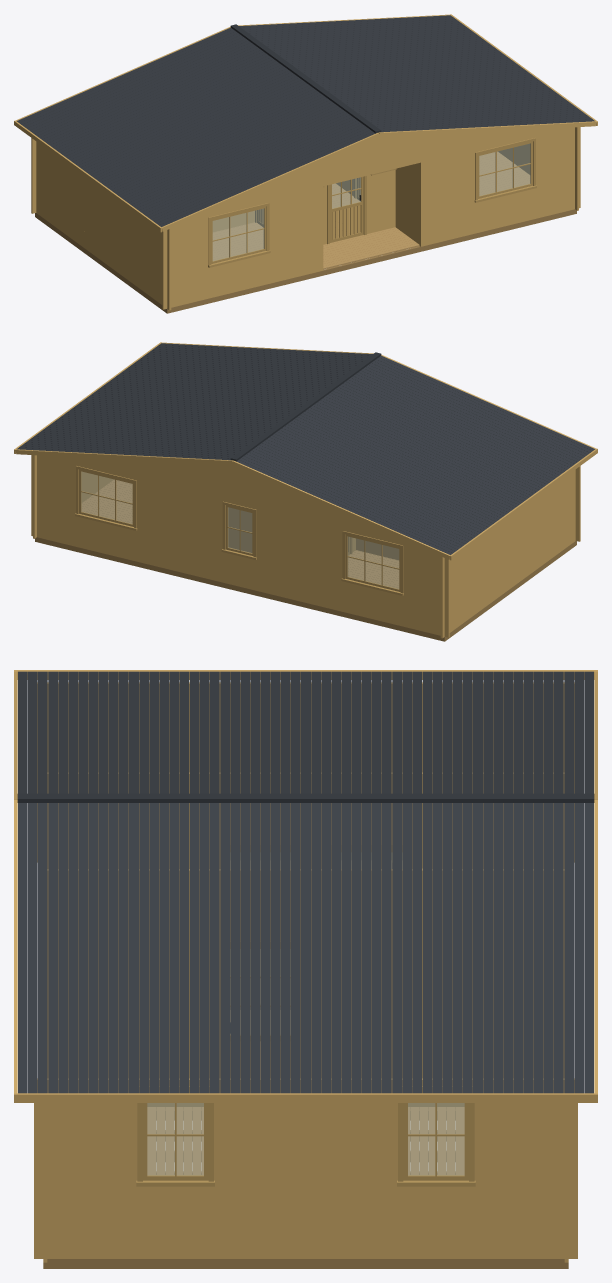
Rendered from филипп_10_5_6_44_мм_веранда.glb.
3 views of the same model, one above another, from view 1: azimuth 30°, elevation 25°; view 2: azimuth 150°, elevation 25°; view 3: azimuth 270°, elevation 25° (orthographic). The views are drawn at different scales.
Visible parts, largest first — view 1: roof, walls, floor, Филипп 10,5×6 (44 мм, веранда), object 148, object 136, object 103; view 2: roof, walls, Филипп 10,5×6 (44 мм, веранда), floor, object 160, object 172, object 184; view 3: roof, walls, floor, Филипп 10,5×6 (44 мм, веранда), object 195, object 206.
Part boxes in pixels (x1,y1,x2,y2): roof: [14, 14, 597, 232]; walls: [31, 127, 580, 310]; floor: [212, 151, 530, 269]; Филипп 10,5×6 (44 мм, веранда): [35, 209, 576, 313]; object 148: [479, 144, 530, 195]; object 136: [213, 209, 263, 260]; object 103: [332, 177, 360, 208]; roof: [14, 342, 597, 560]; walls: [31, 455, 580, 638]; Филипп 10,5×6 (44 мм, веранда): [35, 537, 576, 641]; floor: [81, 479, 399, 588]; object 160: [81, 472, 132, 523]; object 172: [348, 537, 398, 588]; object 184: [228, 507, 251, 552]; roof: [14, 670, 597, 1102]; walls: [34, 682, 577, 1262]; floor: [147, 861, 464, 1174]; Филипп 10,5×6 (44 мм, веранда): [43, 863, 568, 1268]; object 195: [147, 1103, 203, 1175]; object 206: [408, 1103, 464, 1175].
Bounding box in the file's own units: 10.99 × 3.3 × 6.39.
